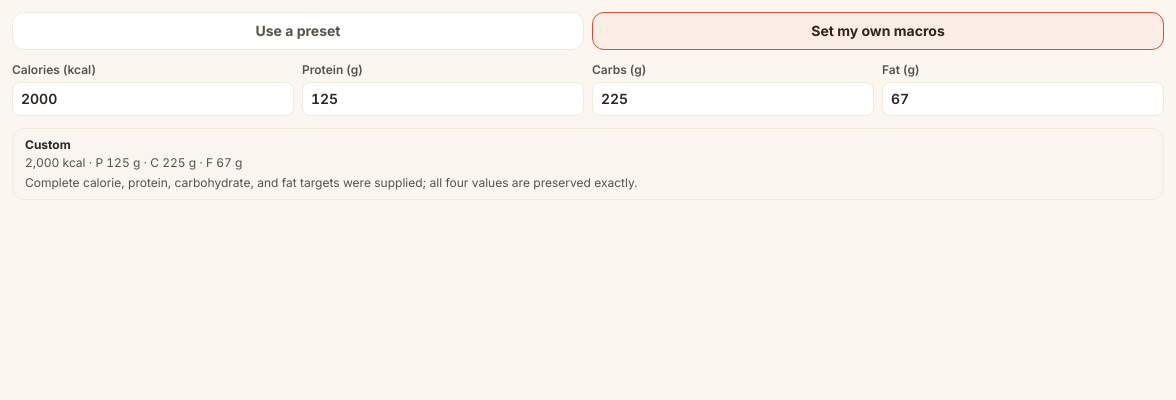
Test: MacroTargetEditor preset confirmation › selects a matching preset directly when nothing would be lost
Step 1. Click the button "Use a preset" → (298, 31), box [12, 12, 584, 50]
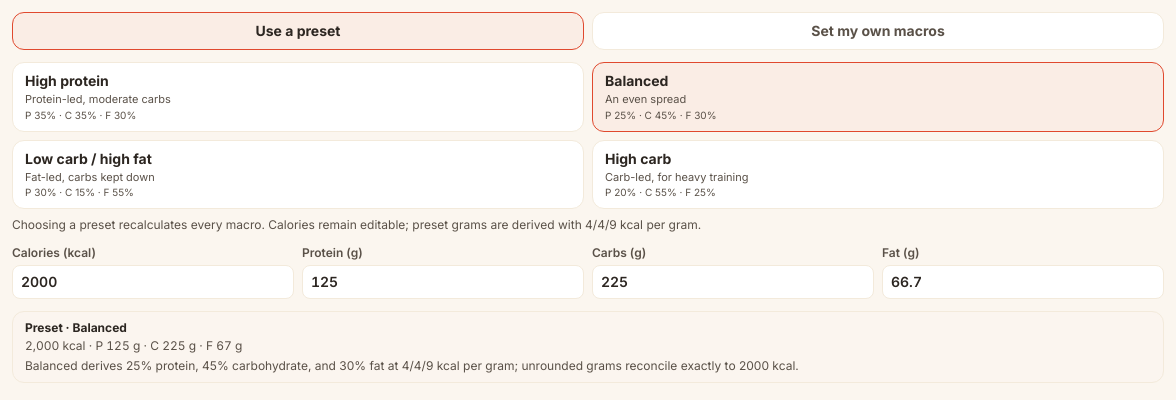
Now the element with test id "resolved-target" shows "Preset · Balanced", box [25, 320, 127, 335]
